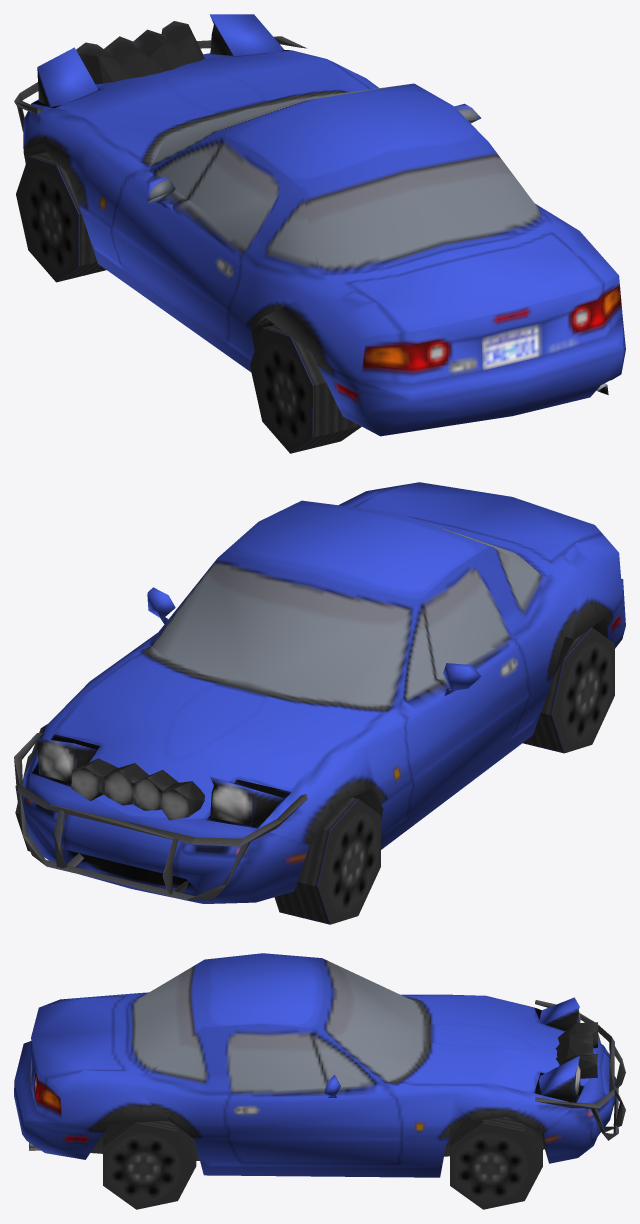
The model's file is fhqDiecast18MiataRally.fbx.
3 renders of one model, top to bottom at view 1: azimuth 30°, elevation 25°; view 2: azimuth 150°, elevation 25°; view 3: azimuth 270°, elevation 25°, orthographic. The views are drawn at different scales.
Parts seen in each view (by area): view 1: fhqMX5NARally; view 2: fhqMX5NARally; view 3: fhqMX5NARally.
Part boxes in pixels (x1=…): fhqMX5NARally: x1=14, y1=14, x2=625, y2=453; fhqMX5NARally: x1=14, y1=482, x2=625, y2=924; fhqMX5NARally: x1=14, y1=953, x2=625, y2=1209.
Bounding box in the file's own units: 0.2262 × 0.1499 × 0.4841.
